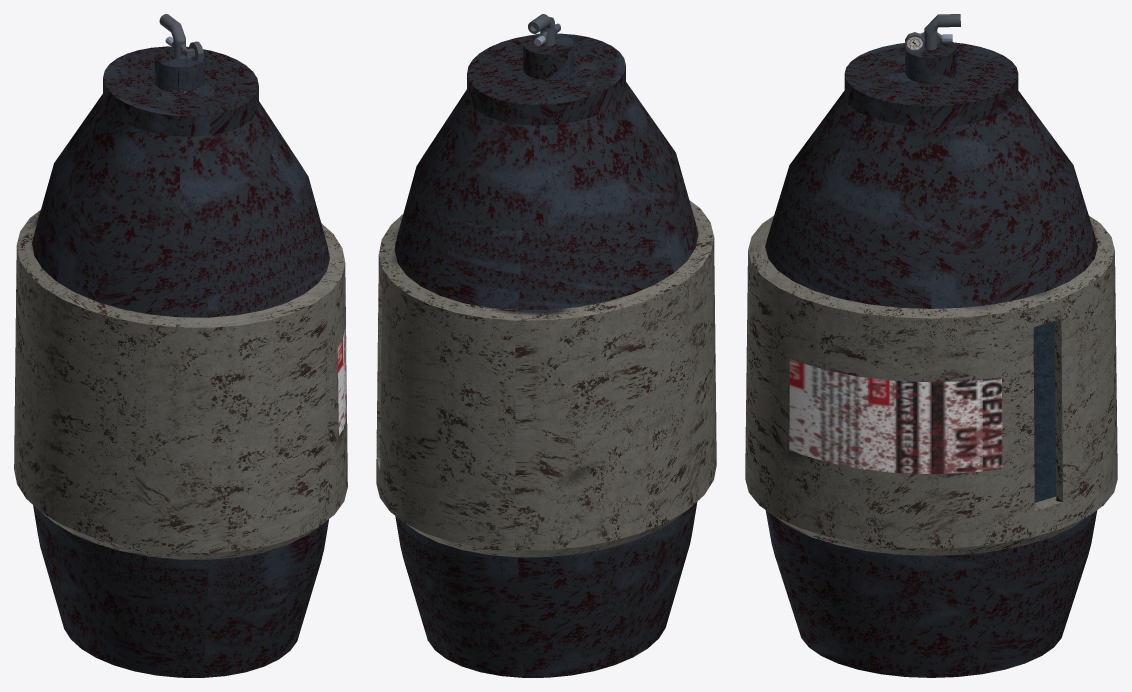
File: Barrel_Barrel.FBX
3 views of the same model, side by side, from view 1: azimuth 30°, elevation 25°; view 2: azimuth 150°, elevation 25°; view 3: azimuth 270°, elevation 25° (orthographic). The views are drawn at different scales.
Visible parts, largest first — view 1: Barrel_Barrel; view 2: Barrel_Barrel; view 3: Barrel_Barrel.
Boxes of the visible parts, x1=… form: Barrel_Barrel: x1=14, y1=14, x2=347, y2=677; Barrel_Barrel: x1=376, y1=14, x2=716, y2=677; Barrel_Barrel: x1=745, y1=14, x2=1117, y2=677.
Size of what is drawn, in the model's own units: 61.87 by 69.99 by 127.
